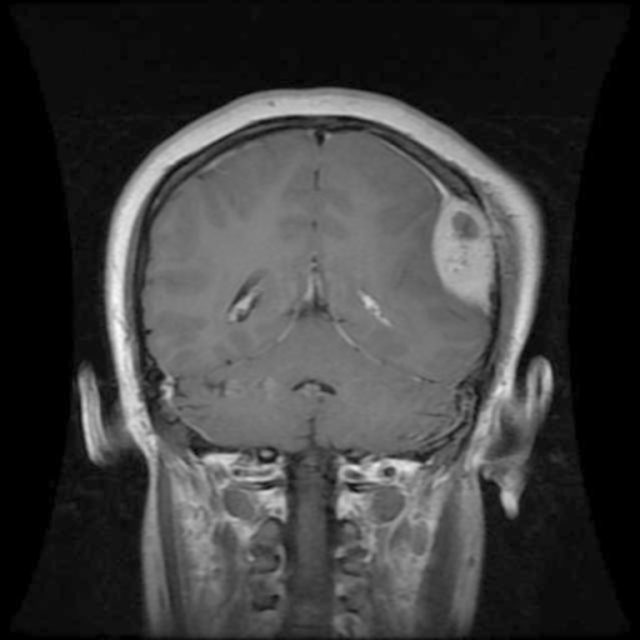meningioma tumor: (410, 177, 501, 325)
